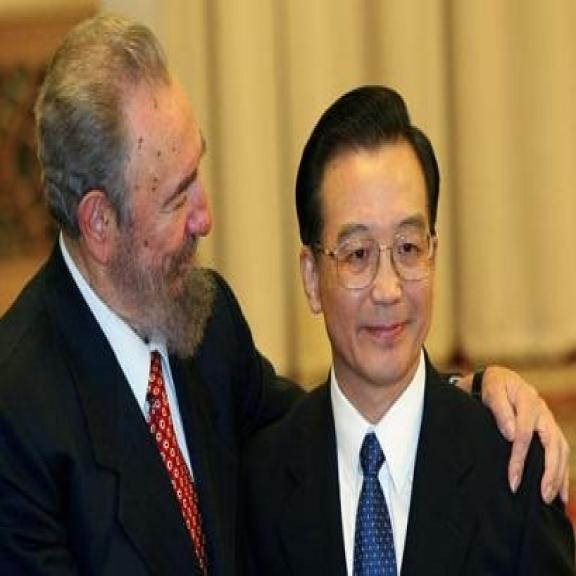face: (69, 78, 214, 337), (295, 140, 438, 383)
